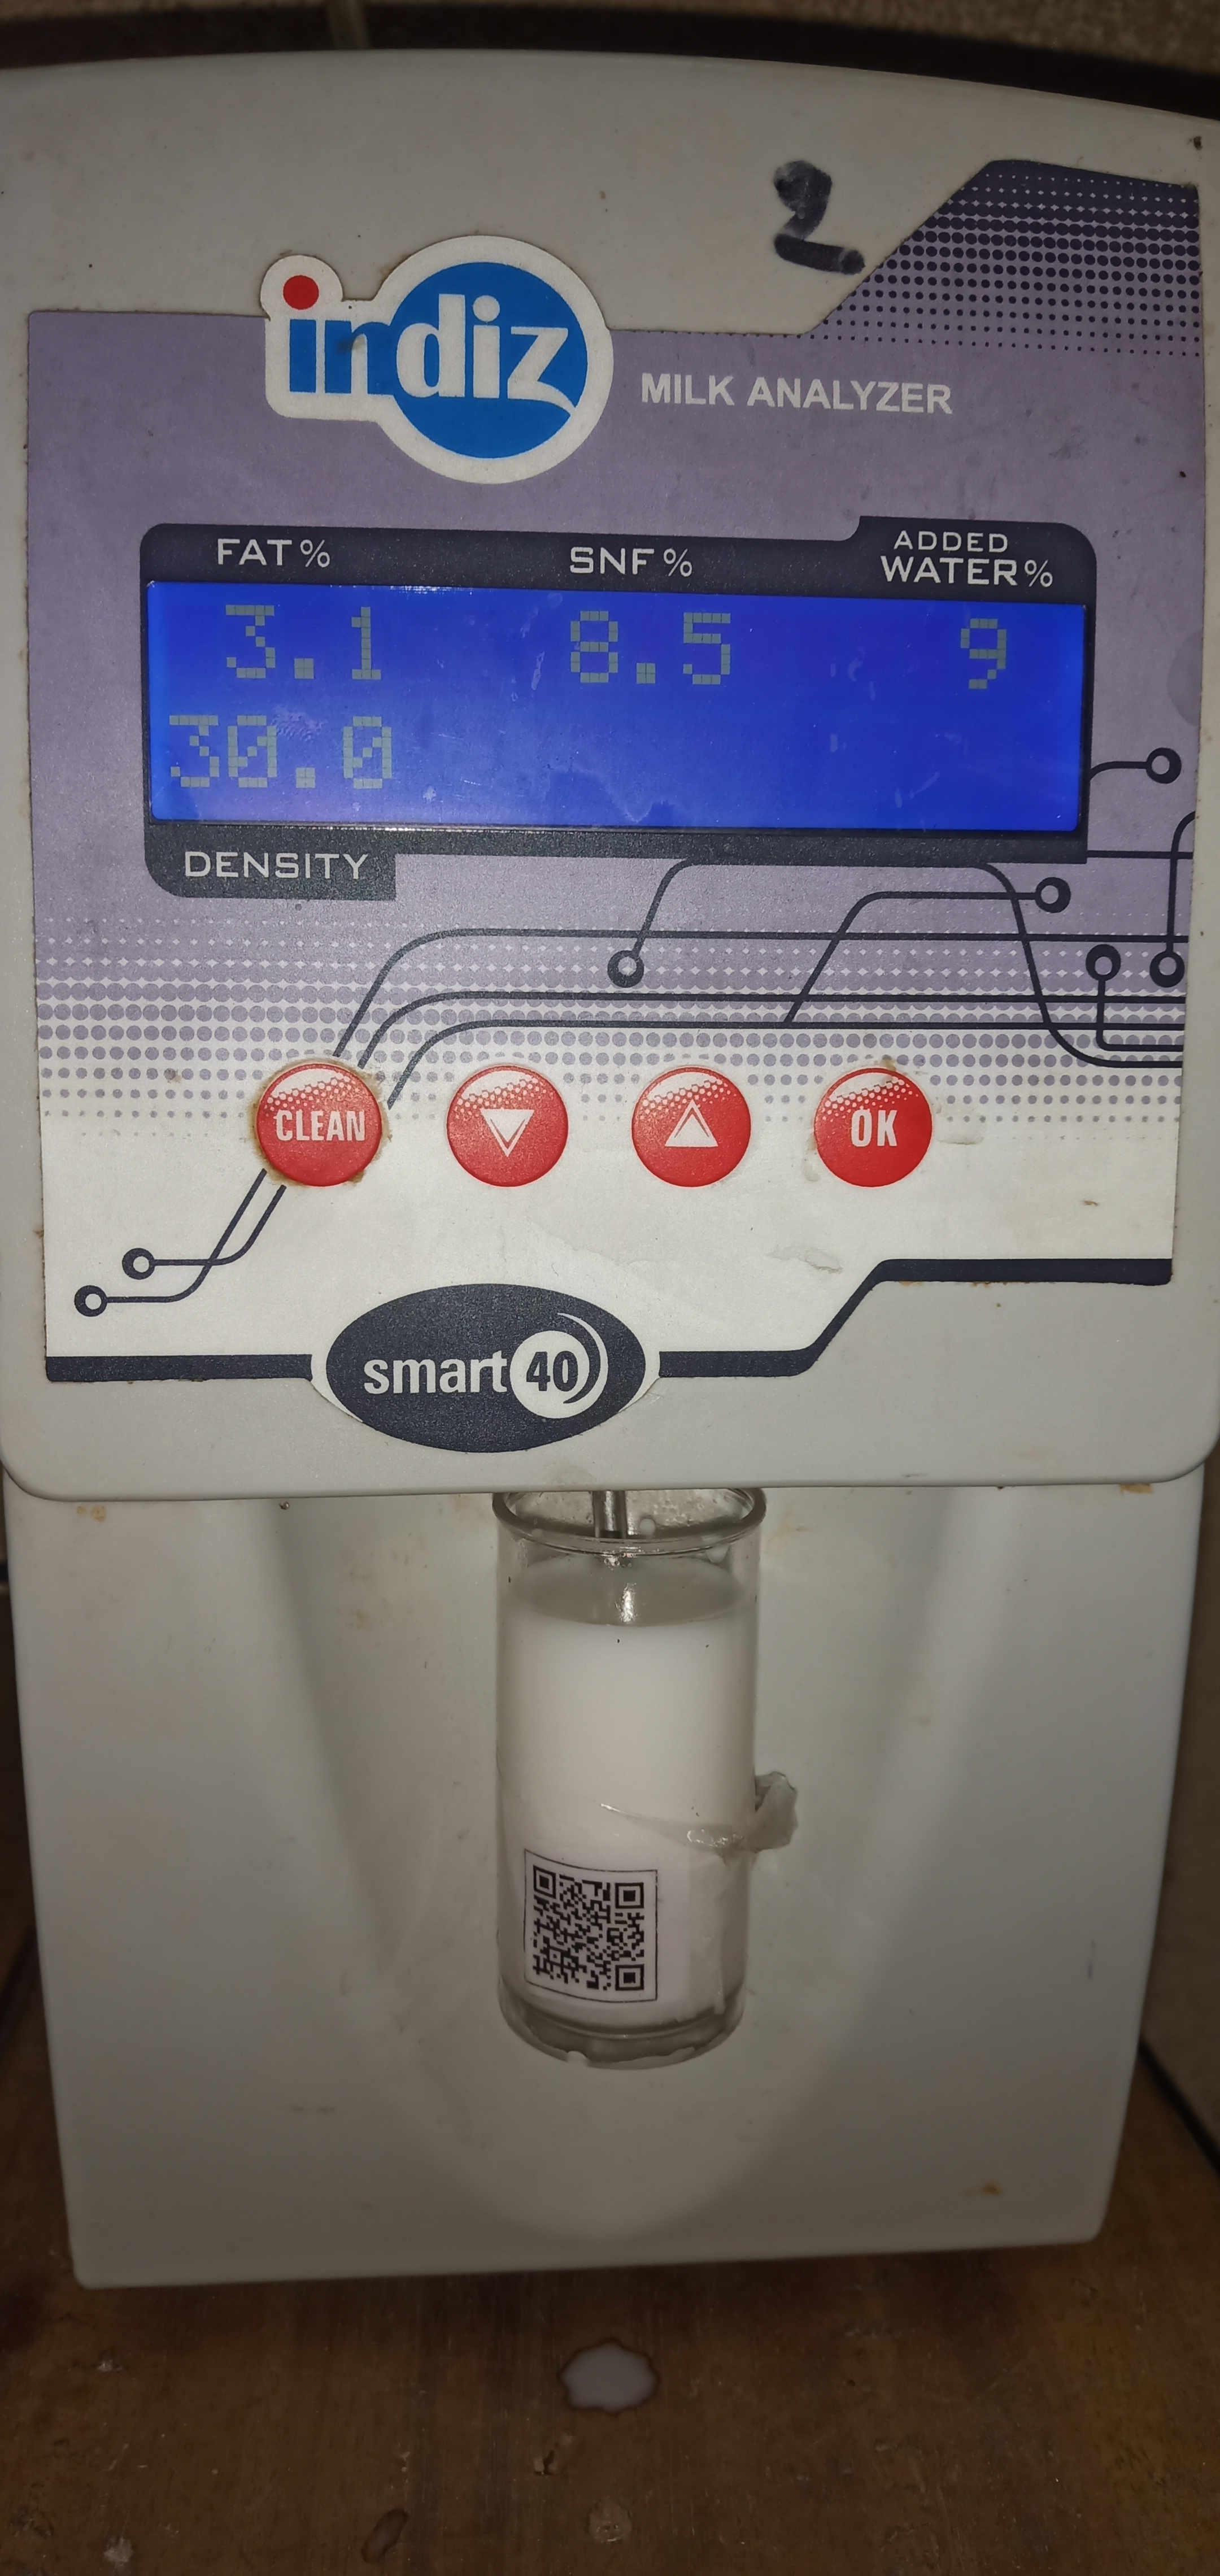lcd: (140, 460, 1108, 933)
qr: (519, 1845, 665, 2022)
